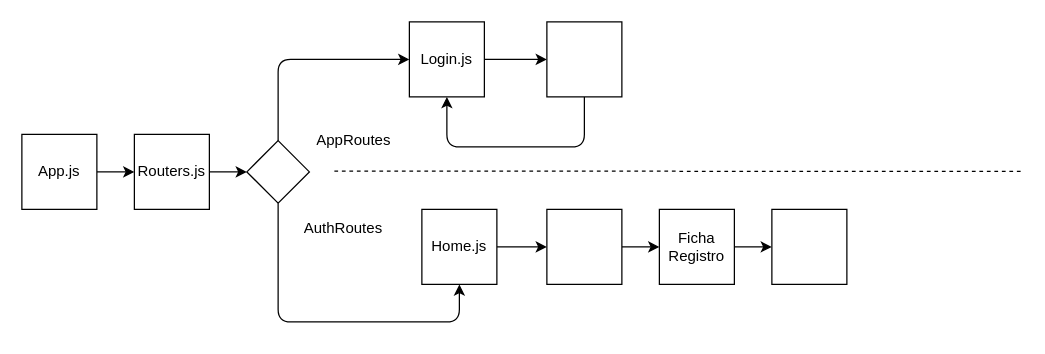
This 1045x354 diagram has some shape labels left out. Here are the shapes that lost their labels. From the top down, the centre of each, then its label:
pixel 584 59: Register.js
pixel 584 246: CEP
